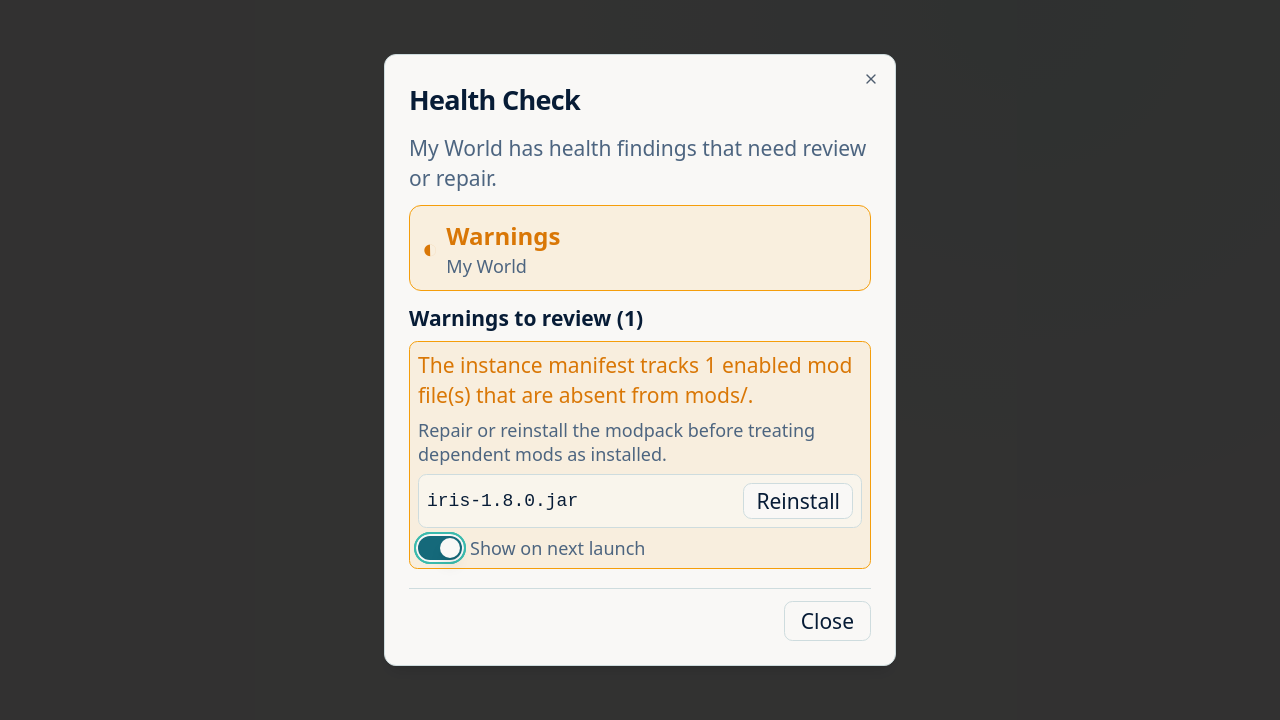
Scenario: HealthDialog missing-file reinstall › says so and opens no review when Modrinth no longer lists the recorded version
Click the button "Reinstall": point(798, 501) [743, 483, 853, 519]
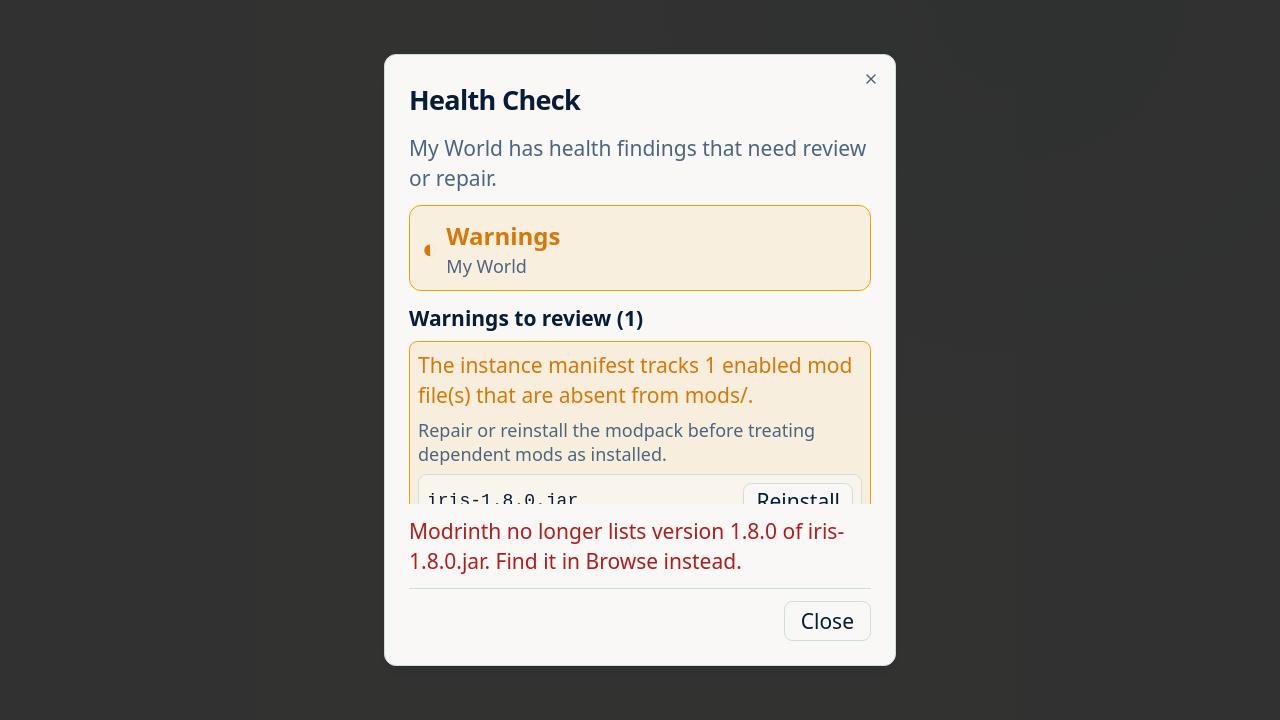
Now the text "no longer lists version 1.8.0" is shown, box [409, 517, 844, 575]
